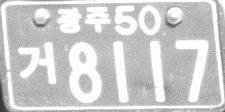0: (138, 3, 161, 36)
1: (147, 38, 169, 104), (110, 39, 131, 105)
5: (112, 4, 138, 37)
7: (172, 38, 211, 104)
8: (67, 41, 102, 103)
거: (16, 41, 57, 85)
광주_O: (55, 5, 111, 34)
